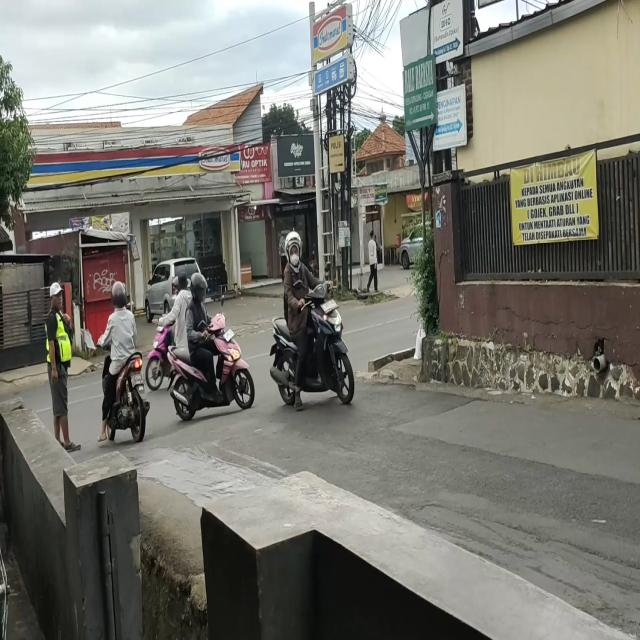helmet: (284, 234, 302, 263), (112, 282, 128, 310), (192, 274, 208, 301)
